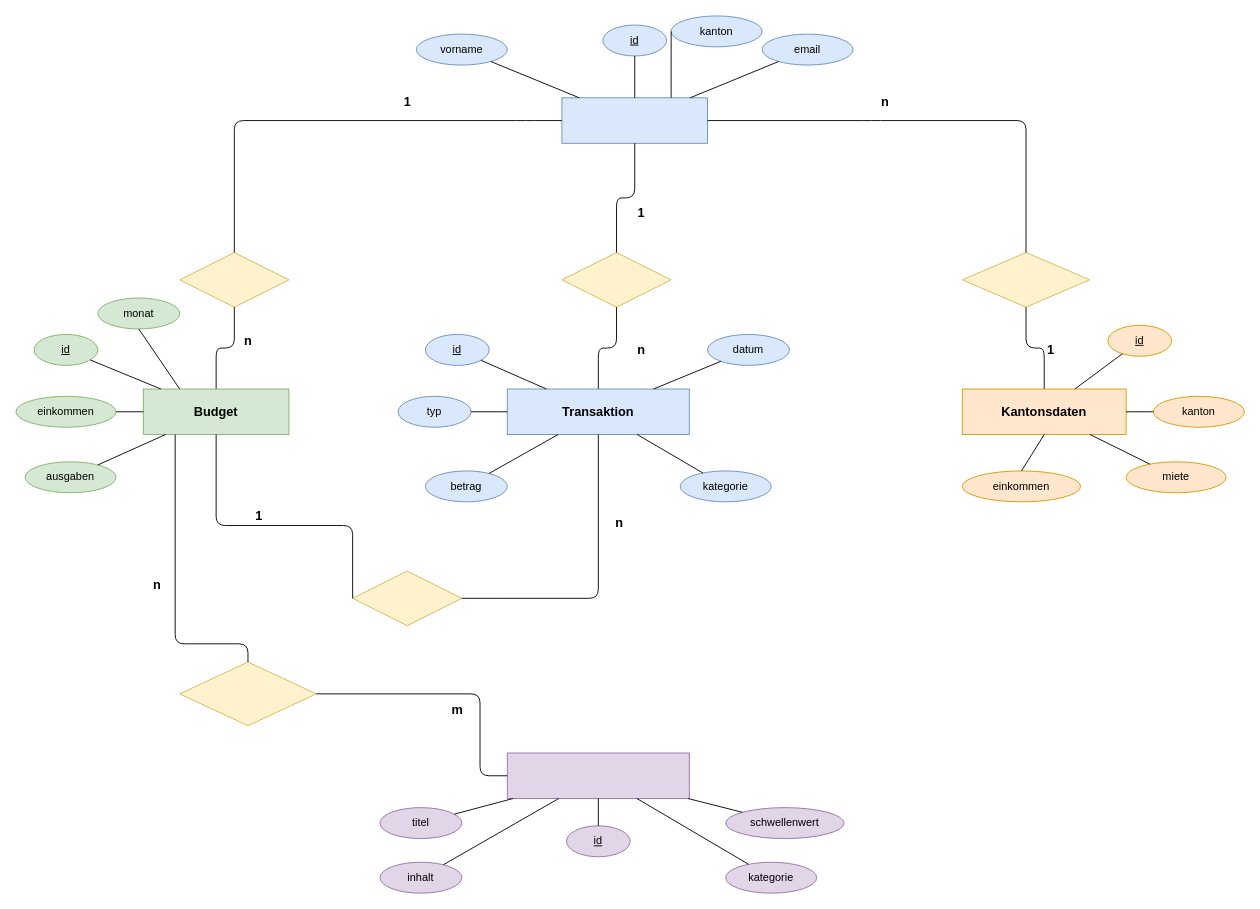
The diagram is 1260 pixels wide and 909 high, and some of its shapes have lost their labels. The shapes that lost their labels are listed below. From the top down, each one's centre as x and y in pixels, then its label:
At (634,120): "Benutzer".
At (234,279): "hat".
At (616,279): "erfasst".
At (1025,279): "vergleicht sich mit".
At (407,598): "enthält".
At (247,693): "wird angezeigt bei".
At (597,775): "Tipp".
